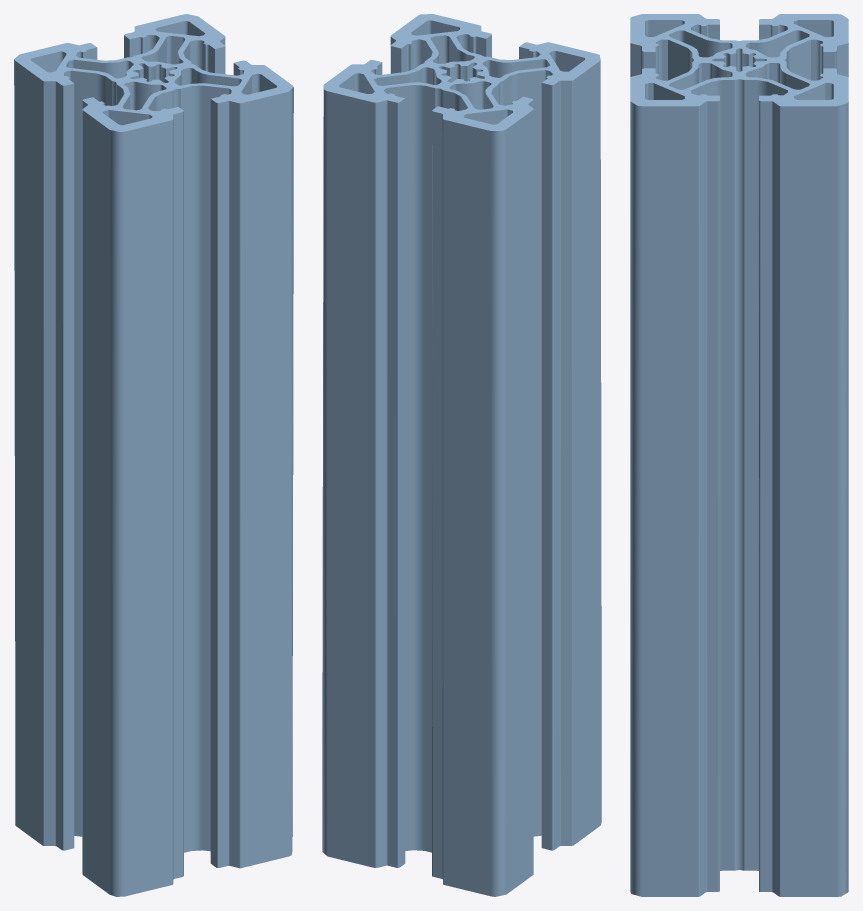
Rendered from ST_EXT_001_0180.gltf.
The picture shows the model from 3 angles, left to right: view 1: azimuth 30°, elevation 25°; view 2: azimuth 150°, elevation 25°; view 3: azimuth 270°, elevation 25°; orthographic projection. The views are drawn at different scales.
Size of the model in its own units: 0.045 by 0.18 by 0.045.
